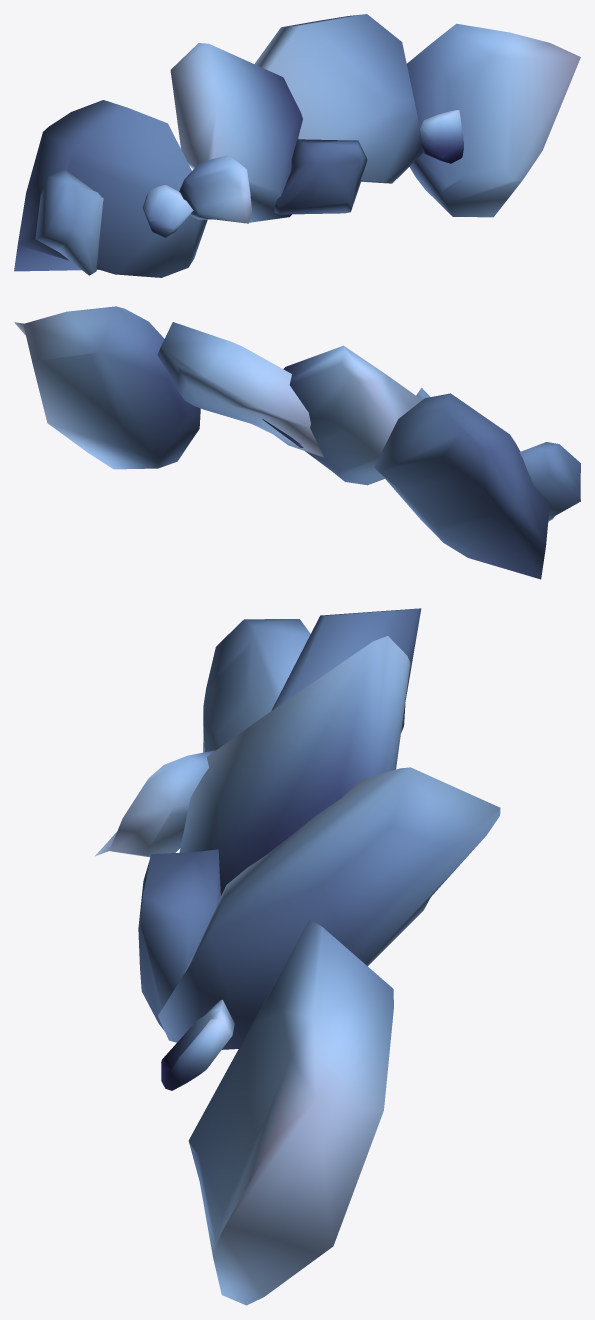
Rendered from Stones_Wall_Blue.fbx.
3 views of the same model, one above another, from view 1: azimuth 30°, elevation 25°; view 2: azimuth 150°, elevation 25°; view 3: azimuth 270°, elevation 25° (orthographic). The views are drawn at different scales.
Parts seen in each view (by area): view 1: Stones_Wall_Blue; view 2: Stones_Wall_Blue; view 3: Stones_Wall_Blue.
Boxes of the visible parts, box(x1,y1,x2,y2) form: Stones_Wall_Blue: box(14, 14, 580, 277); Stones_Wall_Blue: box(14, 306, 580, 579); Stones_Wall_Blue: box(95, 608, 500, 1305).
Bounding box in the file's own units: 39.26 × 14.11 × 12.55.
